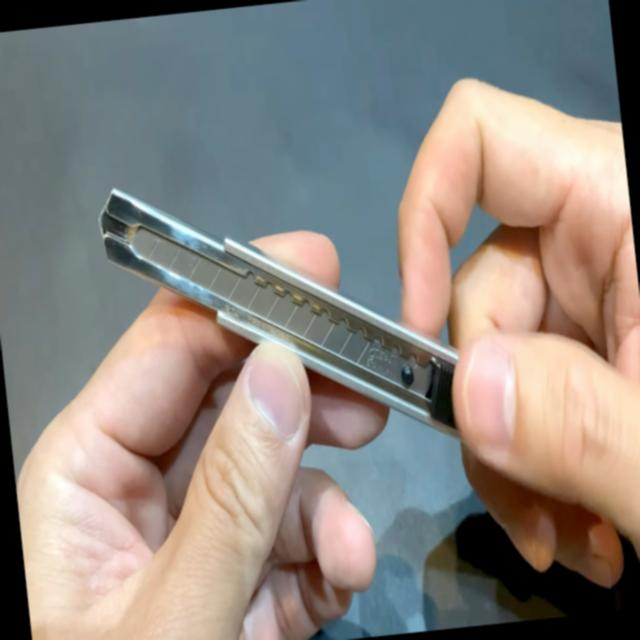cutter: (11, 41, 640, 640)
